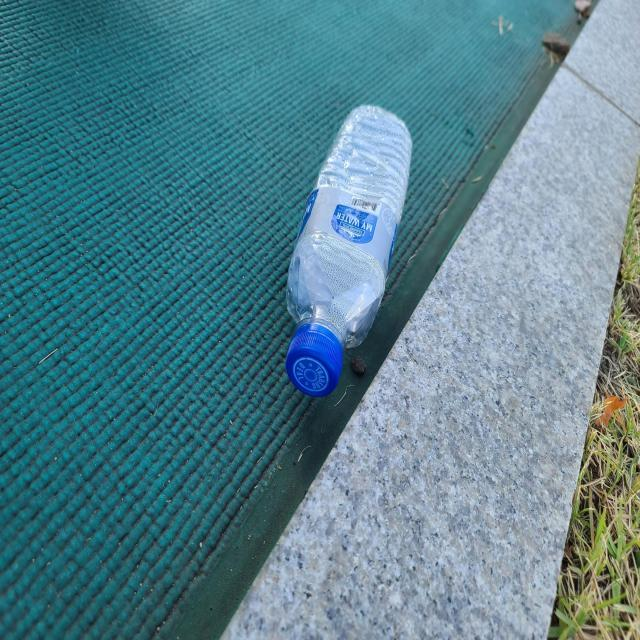plastic: (286, 104, 412, 397)
